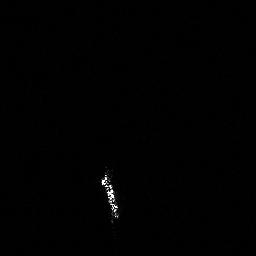ship: (99, 165, 120, 226)
